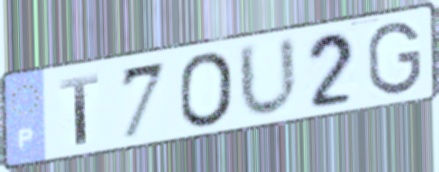2: (304, 25, 362, 116)
7: (115, 60, 171, 141)
G: (365, 19, 425, 98)
O: (176, 49, 236, 130)
T: (57, 71, 102, 147)
U: (235, 32, 302, 121)
